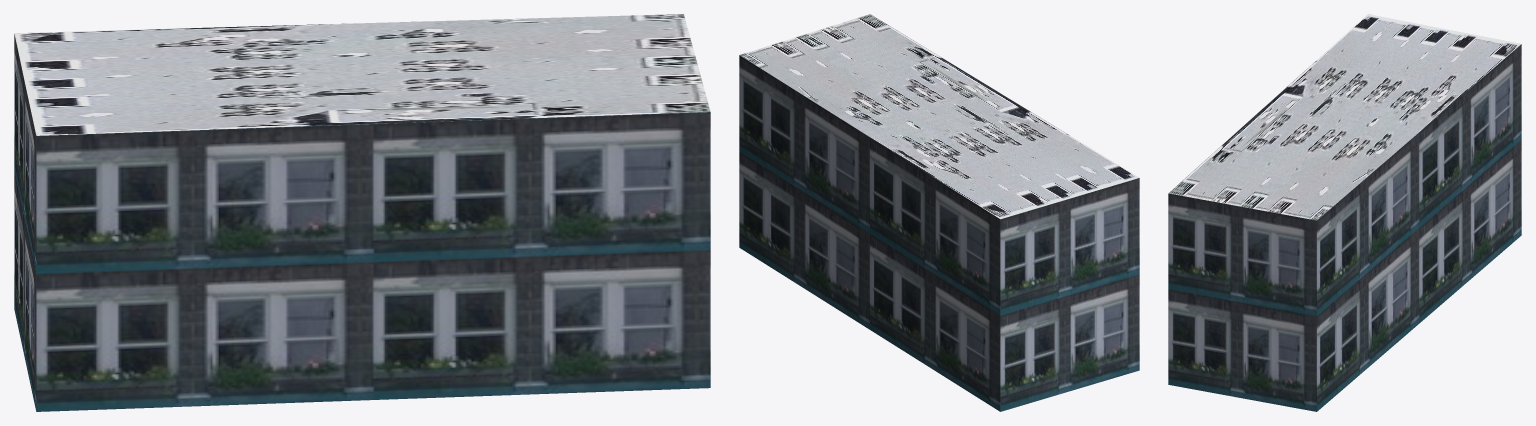
File: ResTex__643.fbx
The picture shows the model from 3 angles, left to right: view 1: azimuth 30°, elevation 25°; view 2: azimuth 150°, elevation 25°; view 3: azimuth 270°, elevation 25°; orthographic projection. The views are drawn at different scales.
Parts seen in each view (by area): view 1: CityEngineMaterial_11_m, CityEngineMaterial_2_m; view 2: CityEngineMaterial_11_m, CityEngineMaterial_2_m; view 3: CityEngineMaterial_11_m, CityEngineMaterial_2_m.
Part boxes in pixels (box(x1,y1,x2,y2)): CityEngineMaterial_11_m: box(14, 34, 710, 411); CityEngineMaterial_2_m: box(14, 14, 710, 135); CityEngineMaterial_11_m: box(739, 55, 1139, 411); CityEngineMaterial_2_m: box(740, 14, 1139, 219); CityEngineMaterial_11_m: box(1168, 44, 1521, 411); CityEngineMaterial_2_m: box(1168, 14, 1521, 220).
Bounding box in the file's own units: 13.89 × 6 × 10.04.
Materials: 2 (2 with a texture image).
